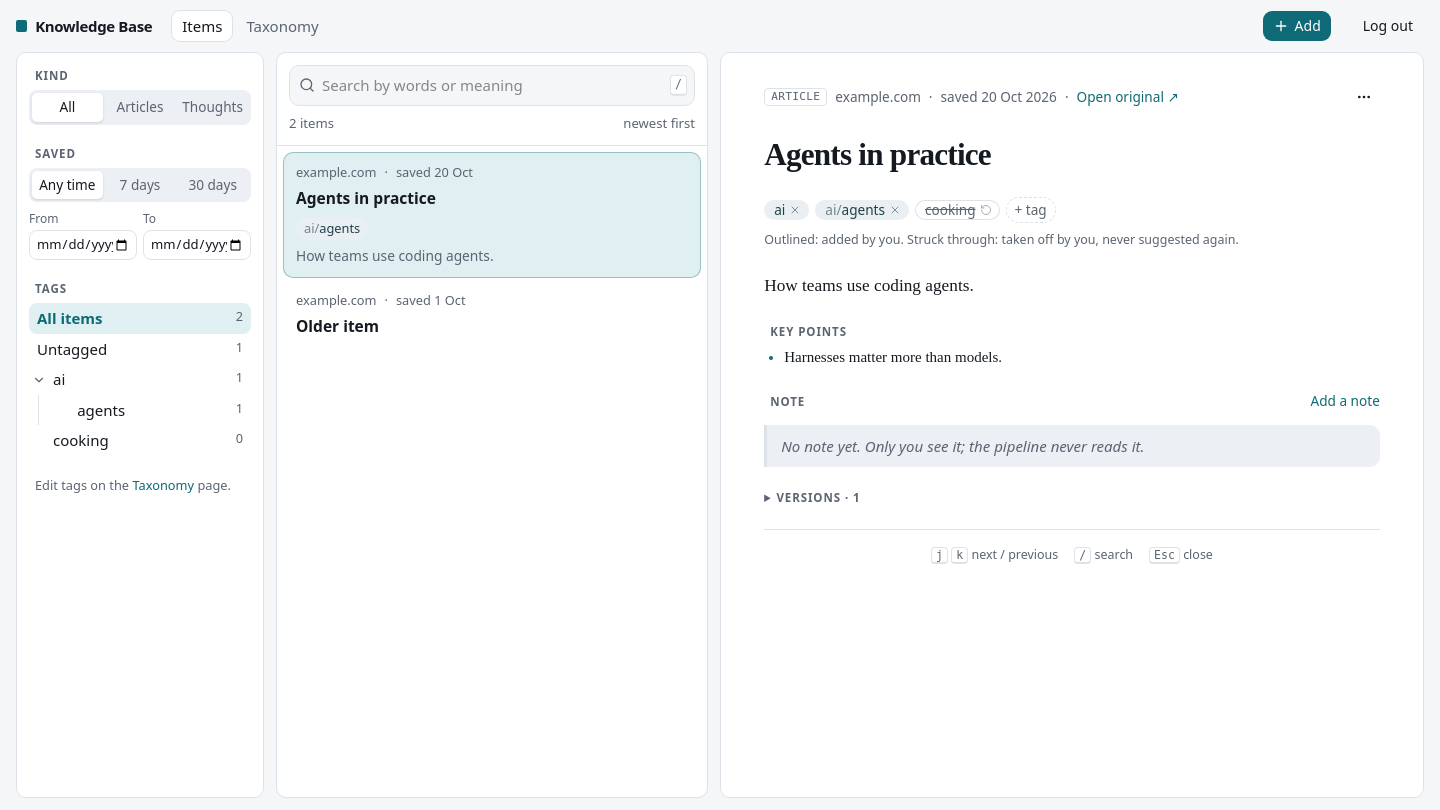
Test: deleting asks first, then removes the Item and opens the next
Expected: the element named "Selected item" is shown, 720,52 -> 1424,798
Step 1. Click the button named "More actions" → [1364, 97], box 1348,81 -> 1380,113
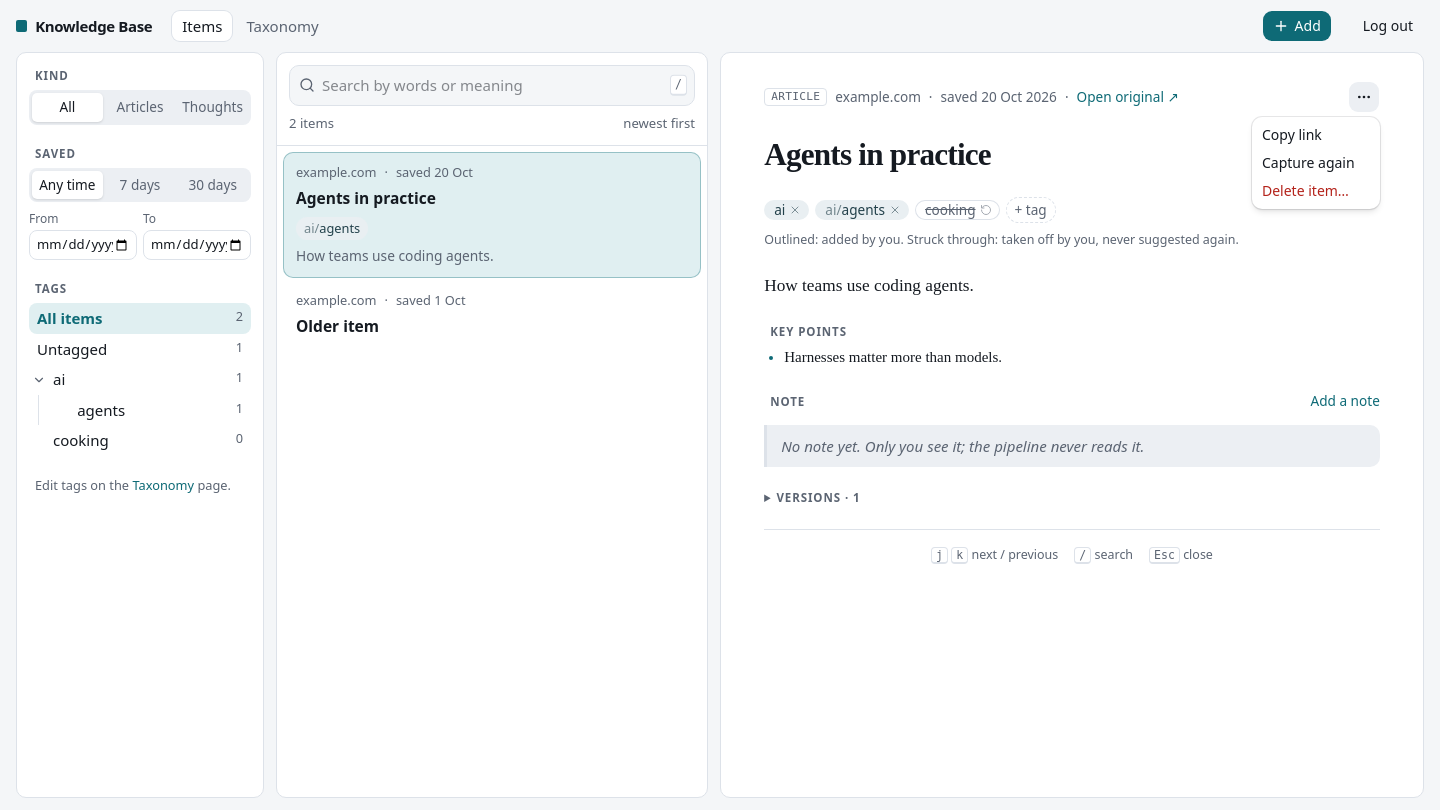
Step 2. Click the menu item "Delete item…" → [1306, 190], box 1262,181 -> 1349,200
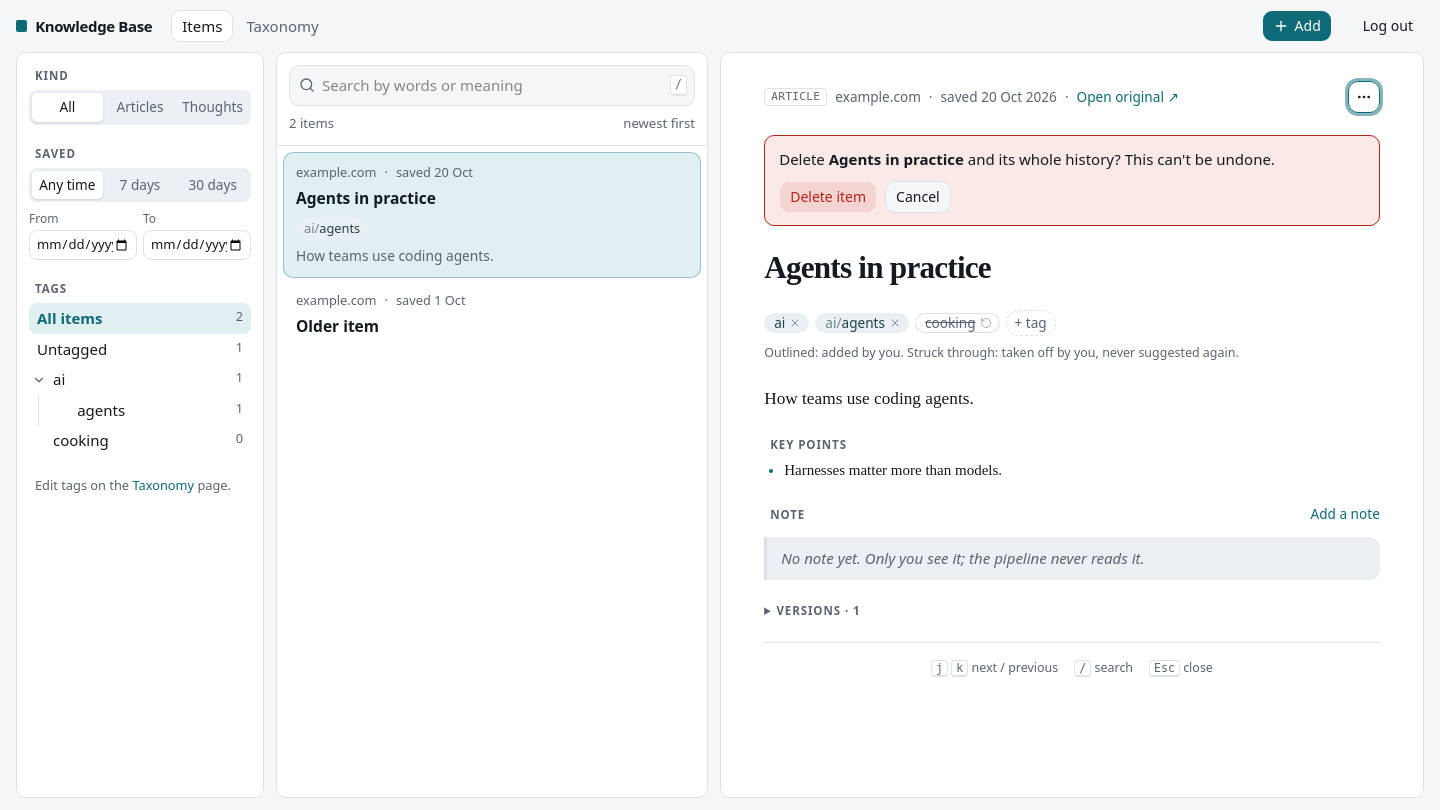
Now the message shows "Delete Agents in practice and its whole history?", box 764,135 -> 1380,226
Step 3. Click the button "Delete item" → [828, 197], box 779,181 -> 877,213
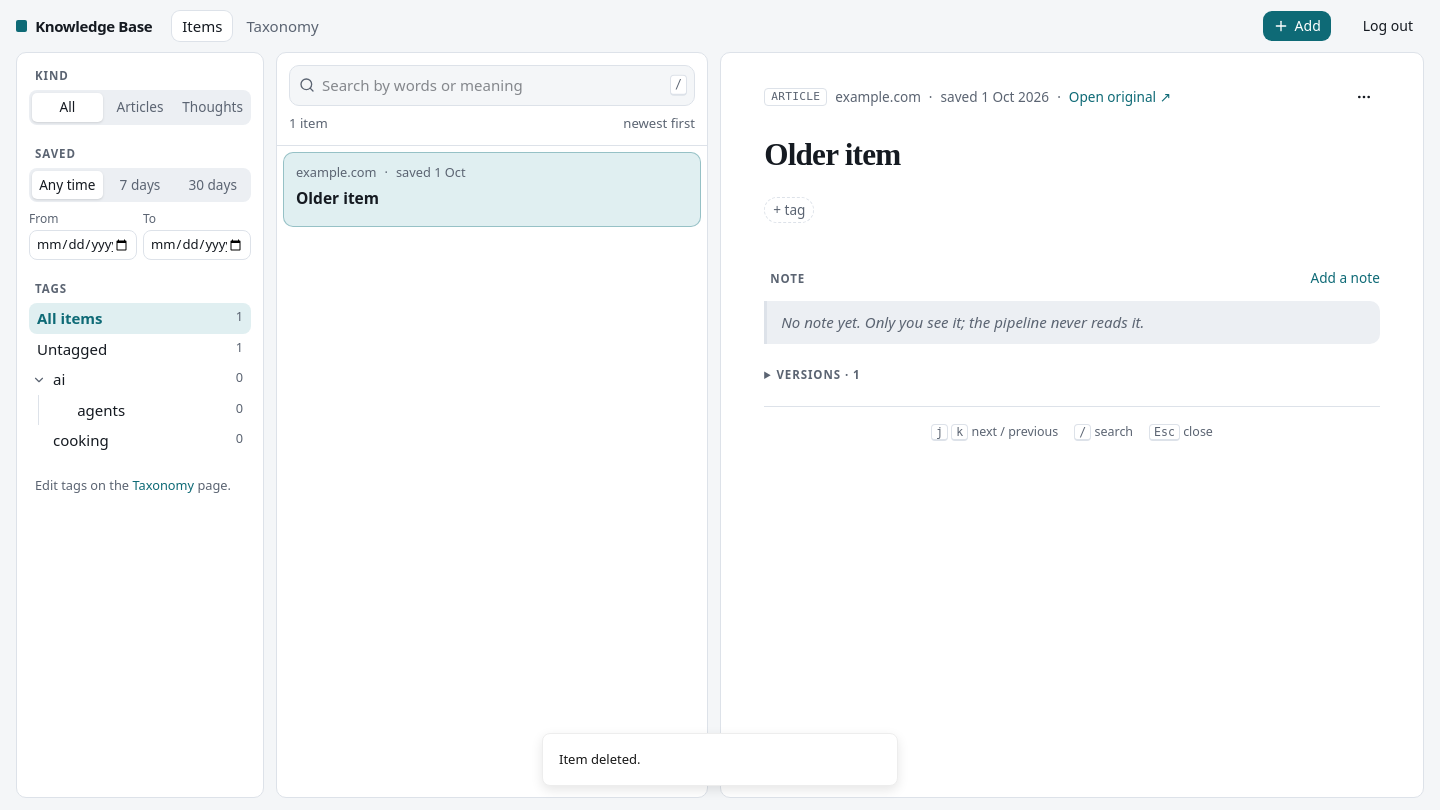
Now the heading "Older item" below "1 Oct 2026" is shown, box 764,137 -> 900,172
